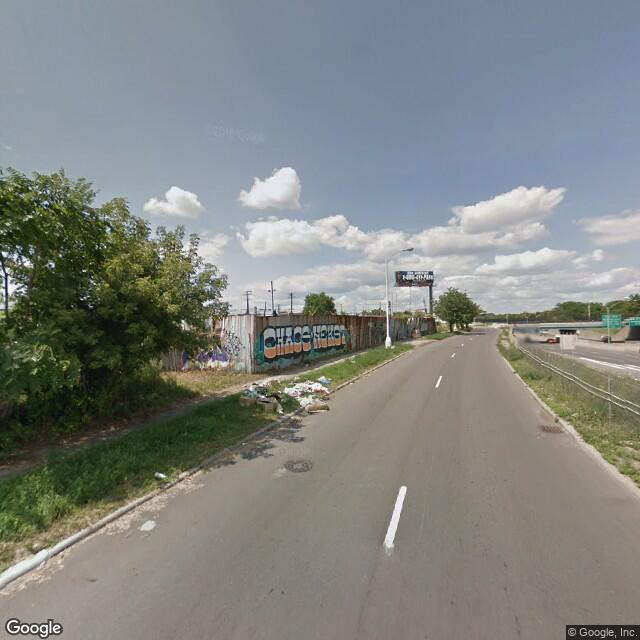litter: (241, 374, 330, 412), (155, 471, 166, 479), (351, 357, 358, 364), (347, 380, 356, 385)
